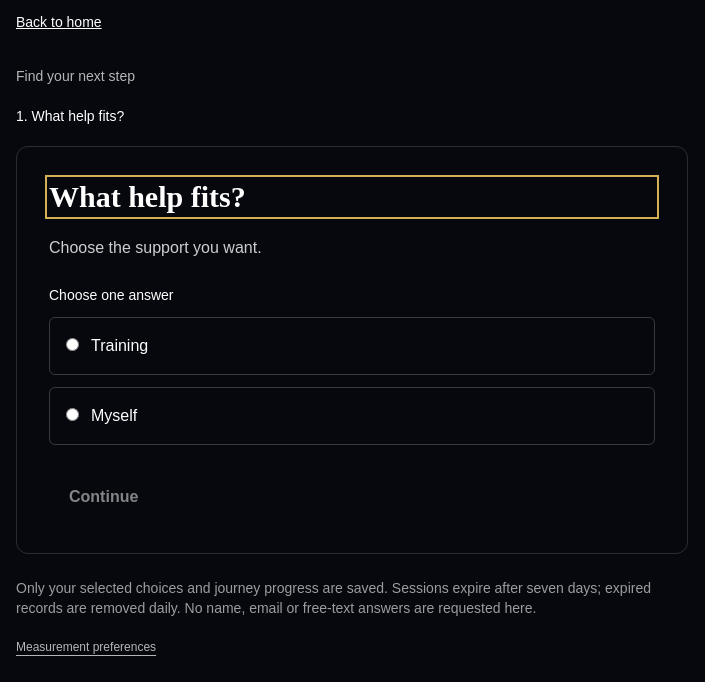
it: public journey runner › reuses the same request and bounded answer after an uncertain response
The width and height of the screenshot is (705, 682).
Click the radio button labelled "Training".
click(72, 344)  # box [66,338,79,351]
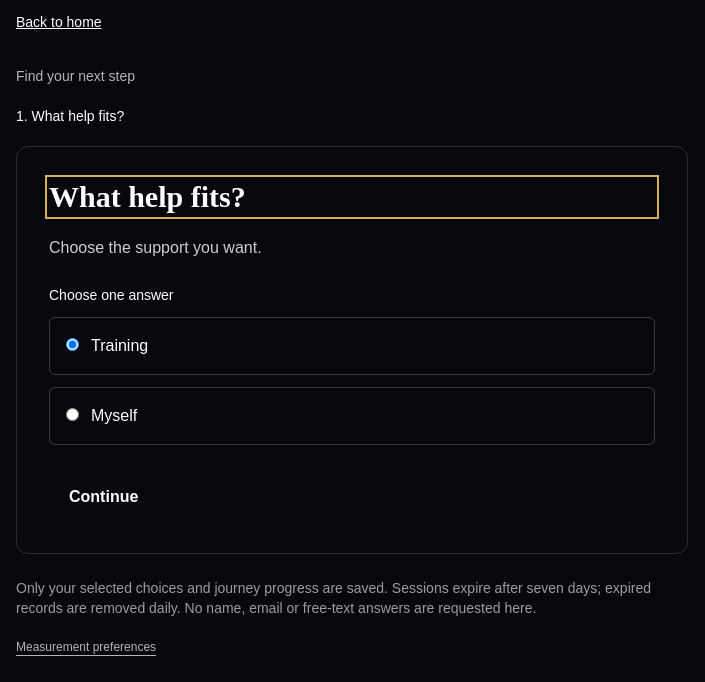
Click the button "Continue".
click(104, 497)  # box [49,473,158,521]
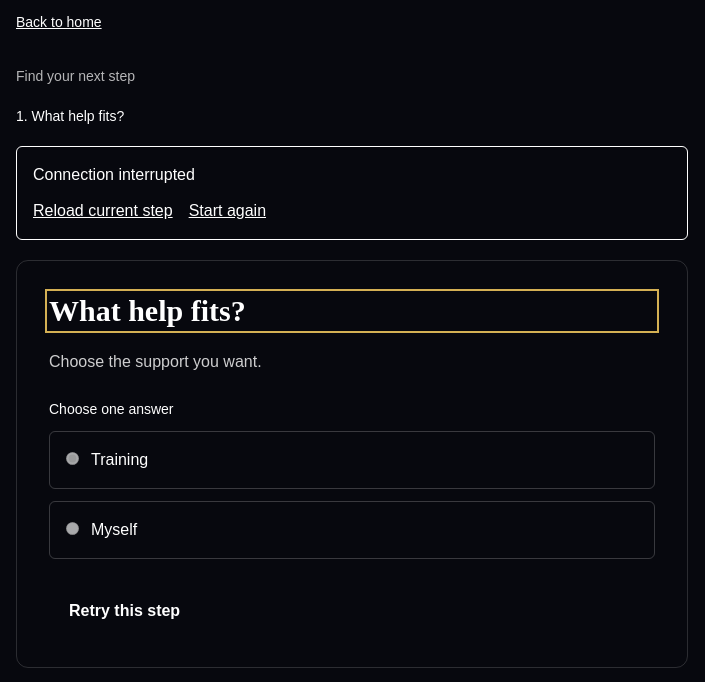
Expected: the message "Connection interrupted Reload current step Start again" is shown, [16,146,688,240]
Click the button "Retry this step".
click(125, 611)  # box [49,587,200,635]
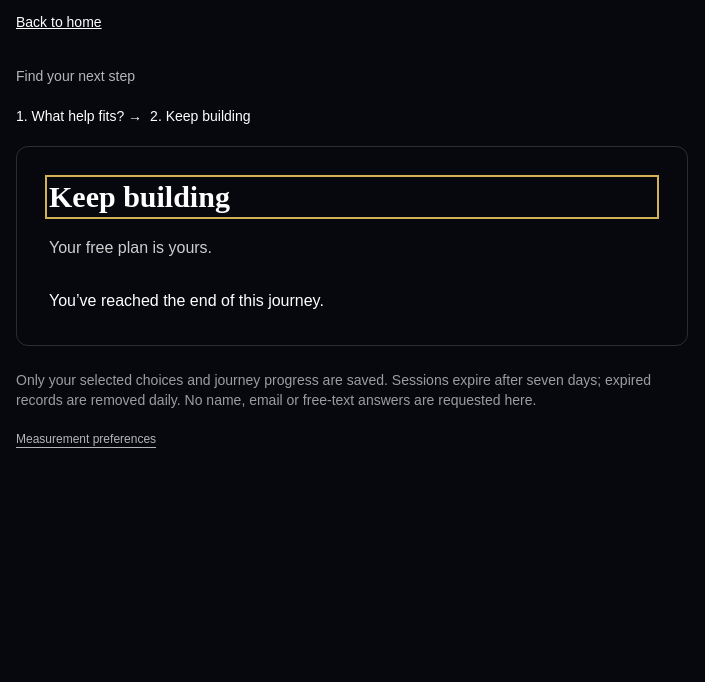
Expected: the heading "Keep building" is shown, [49,180,230,213]
